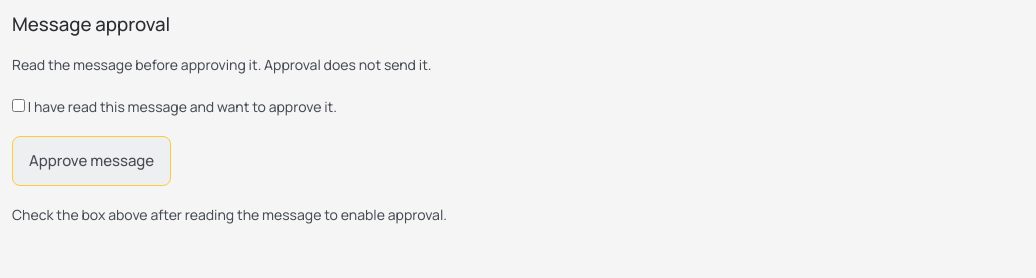
Test: uncertain approval waits for refresh and is not retried
Click the checkbox labelled "I have read this message and want to approve it.".
click(18, 106)  # box [12, 99, 25, 112]
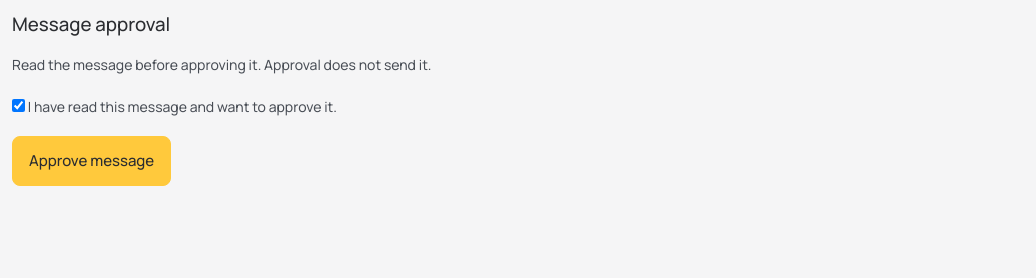
Click the button "Approve message".
click(92, 161)  # box [12, 136, 171, 186]
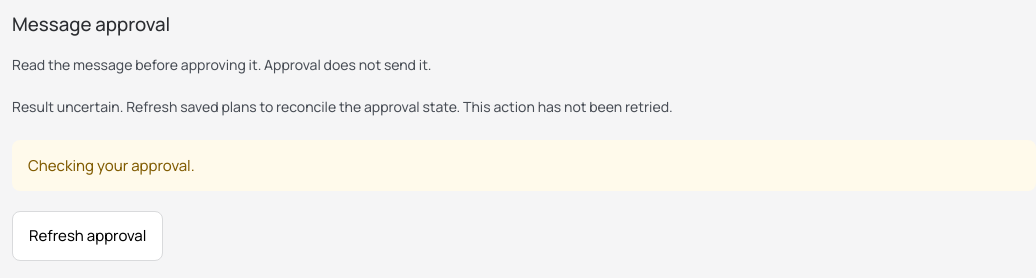
expect the text "Result uncertain" is shown: met, box [12, 97, 673, 116]
